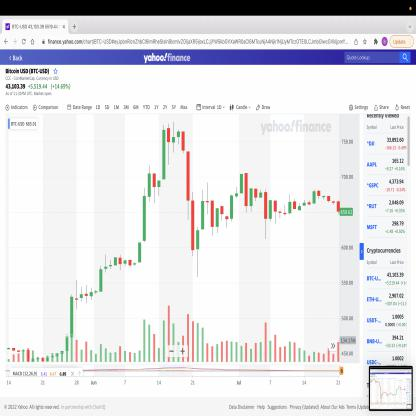Bearish: 3 Black Crows: (181, 129, 195, 258)
Bearish: Engulfing: (239, 171, 249, 214)
Bearish: Evening Star Doji: (200, 180, 215, 238)
Bullish: 3 White Soldiers: (137, 161, 152, 265)
